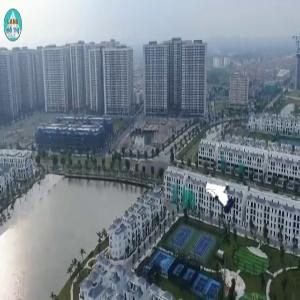drone: (203, 184, 254, 235)
